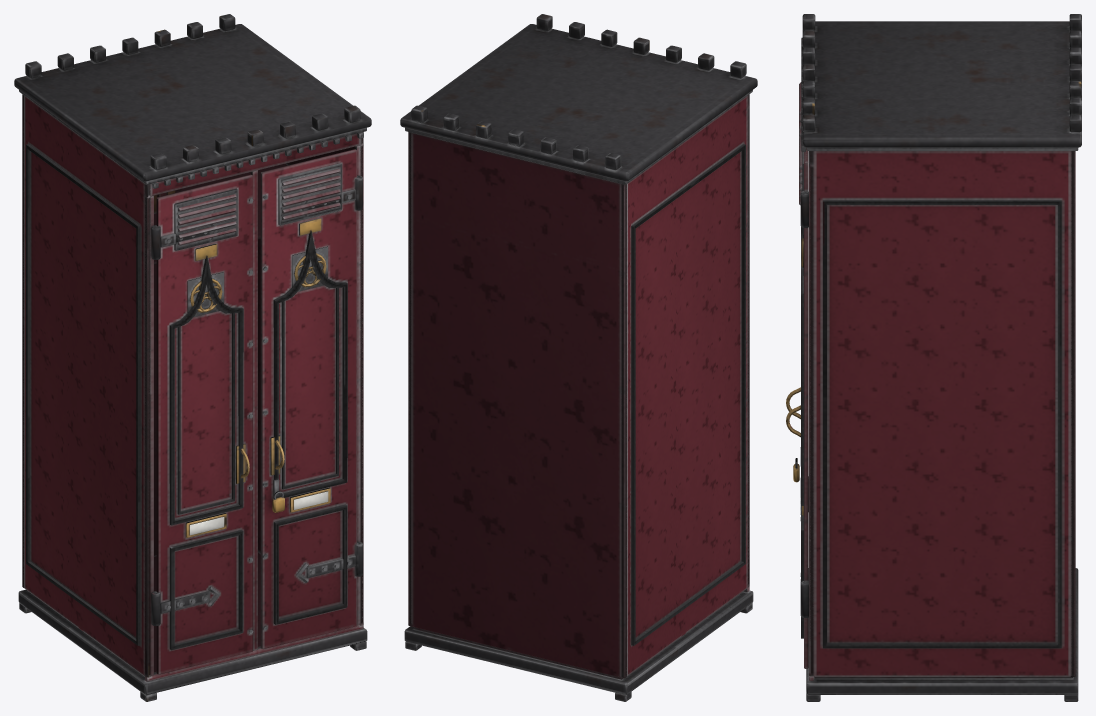
The model's file is HidingLocker.fbx.
3 renders of one model, left to right at view 1: azimuth 30°, elevation 25°; view 2: azimuth 150°, elevation 25°; view 3: azimuth 270°, elevation 25°, orthographic. The views are drawn at different scales.
Visible parts, largest first — view 1: HidingLocker_Body, HidingLocker_Door1, HidingLocker_Door0; view 2: HidingLocker_Body; view 3: HidingLocker_Body, HidingLocker_Door1.
Part boxes in pixels (bbox=[...]): HidingLocker_Body: bbox=[14, 14, 371, 701]; HidingLocker_Door1: bbox=[260, 149, 362, 649]; HidingLocker_Door0: bbox=[151, 174, 253, 674]; HidingLocker_Body: bbox=[400, 14, 757, 701]; HidingLocker_Body: bbox=[801, 14, 1081, 701]; HidingLocker_Door1: bbox=[786, 136, 808, 668].
Size of the model in its own units: 316 by 718 by 333.
